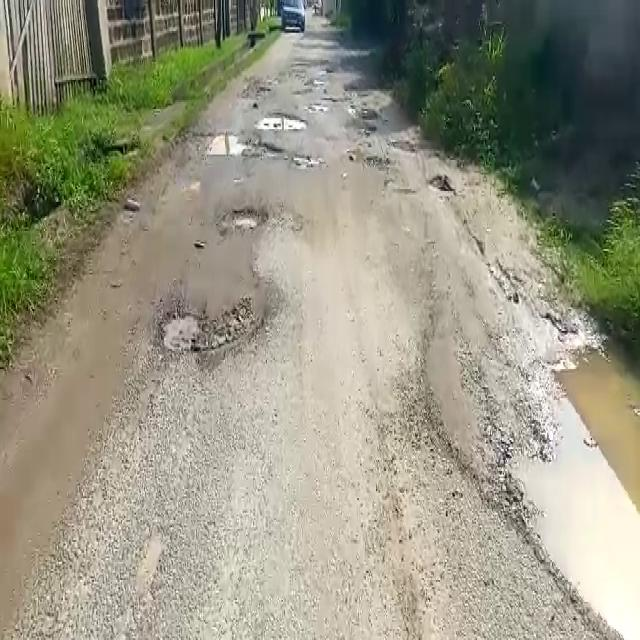Pothole: (502, 336, 639, 638), (159, 308, 252, 353), (192, 132, 254, 158), (227, 206, 265, 234), (254, 113, 308, 132)
